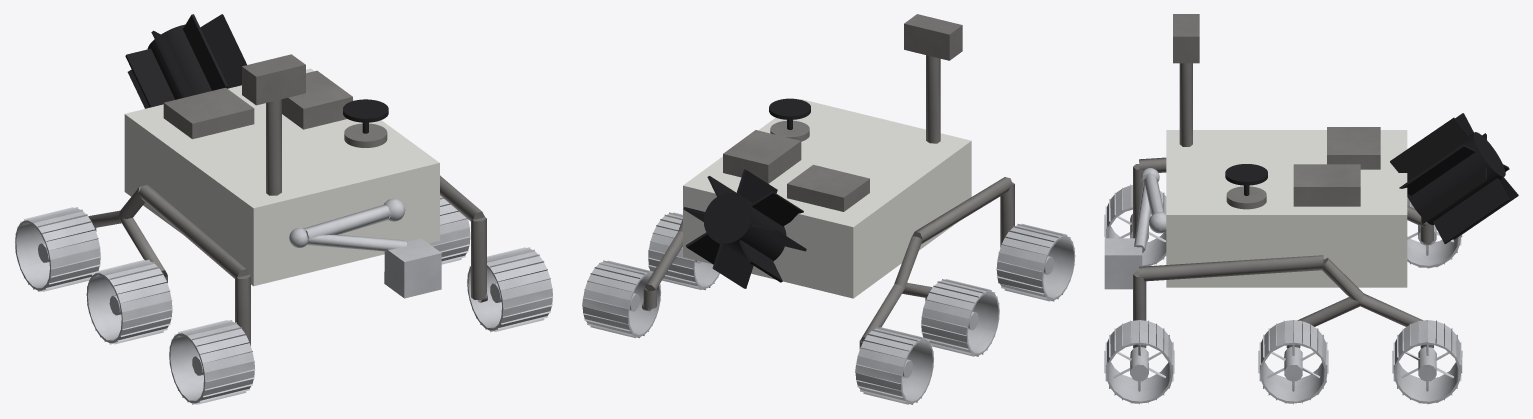
File: rover01_science_rover.glb
The picture shows the model from 3 angles, left to right: view 1: azimuth 30°, elevation 25°; view 2: azimuth 150°, elevation 25°; view 3: azimuth 270°, elevation 25°; orthographic projection. The views are drawn at different scales.
Visible parts, largest first — view 1: body_web, mmrtg, rocker_bogie, deck_boxes, robotic_arm, wheel_5, wheel_4, wheel_6, wheel_1, mast, wheel_2, hga; view 2: body_web, mmrtg, deck_boxes, rocker_bogie, wheel_6, wheel_4, wheel_5, wheel_3, mast, wheel_2, hga; view 3: body_web, mmrtg, rocker_bogie, deck_boxes, wheel_1, wheel_2, wheel_3, robotic_arm, mast, wheel_4, wheel_6, hga.
Part boxes in pixels (x1=…): body_web: x1=124, y1=68, x2=439, y2=286; mmrtg: x1=125, y1=14, x2=246, y2=108; rocker_bogie: x1=88, y1=175, x2=487, y2=345; deck_boxes: x1=163, y1=70, x2=387, y2=147; robotic_arm: x1=289, y1=198, x2=441, y2=298; wheel_5: x1=86, y1=259, x2=172, y2=344; wheel_4: x1=169, y1=320, x2=255, y2=404; wheel_6: x1=15, y1=207, x2=100, y2=291; wheel_1: x1=467, y1=247, x2=553, y2=332; mast: x1=242, y1=54, x2=305, y2=195; wheel_2: x1=429, y1=195, x2=470, y2=264; hga: x1=343, y1=99, x2=388, y2=133; body_web: x1=683, y1=99, x2=971, y2=298; mmrtg: x1=683, y1=169, x2=806, y2=288; deck_boxes: x1=723, y1=120, x2=869, y2=211; rocker_bogie: x1=642, y1=177, x2=1014, y2=348; wheel_6: x1=855, y1=327, x2=933, y2=404; wheel_4: x1=996, y1=224, x2=1075, y2=301; wheel_5: x1=921, y1=279, x2=999, y2=356; wheel_3: x1=582, y1=260, x2=661, y2=338; mast: x1=904, y1=14, x2=962, y2=143; wheel_2: x1=648, y1=212, x2=719, y2=290; hga: x1=769, y1=98, x2=810, y2=129; body_web: x1=1166, y1=130, x2=1407, y2=287; mmrtg: x1=1390, y1=113, x2=1518, y2=243; rocker_bogie: x1=1133, y1=157, x2=1433, y2=348; deck_boxes: x1=1226, y1=127, x2=1380, y2=209; wheel_1: x1=1104, y1=320, x2=1174, y2=404; wheel_2: x1=1258, y1=320, x2=1328, y2=404; wheel_3: x1=1392, y1=320, x2=1462, y2=404; robotic_arm: x1=1104, y1=168, x2=1166, y2=289; mast: x1=1173, y1=14, x2=1199, y2=146; wheel_4: x1=1104, y1=184, x2=1166, y2=266; wheel_6: x1=1407, y1=197, x2=1462, y2=268; hga: x1=1225, y1=164, x2=1267, y2=195.
Bounding box in the file's own units: 2.8 × 2.24 × 3.09.
4 materials, 2 textured.
